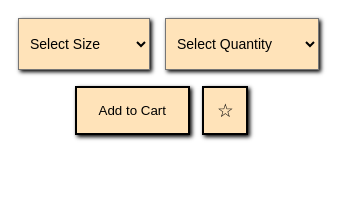
Test: <Cart /> › does NOT add item to cart when no size is selected
The image size is (342, 204).
Click the button with test id "cartClick" at (132, 111), box [75,86,190,135]
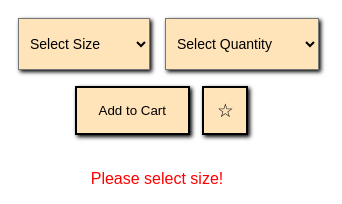
Expected: the text "Please select size!" is shown, [91,170,223,187]
